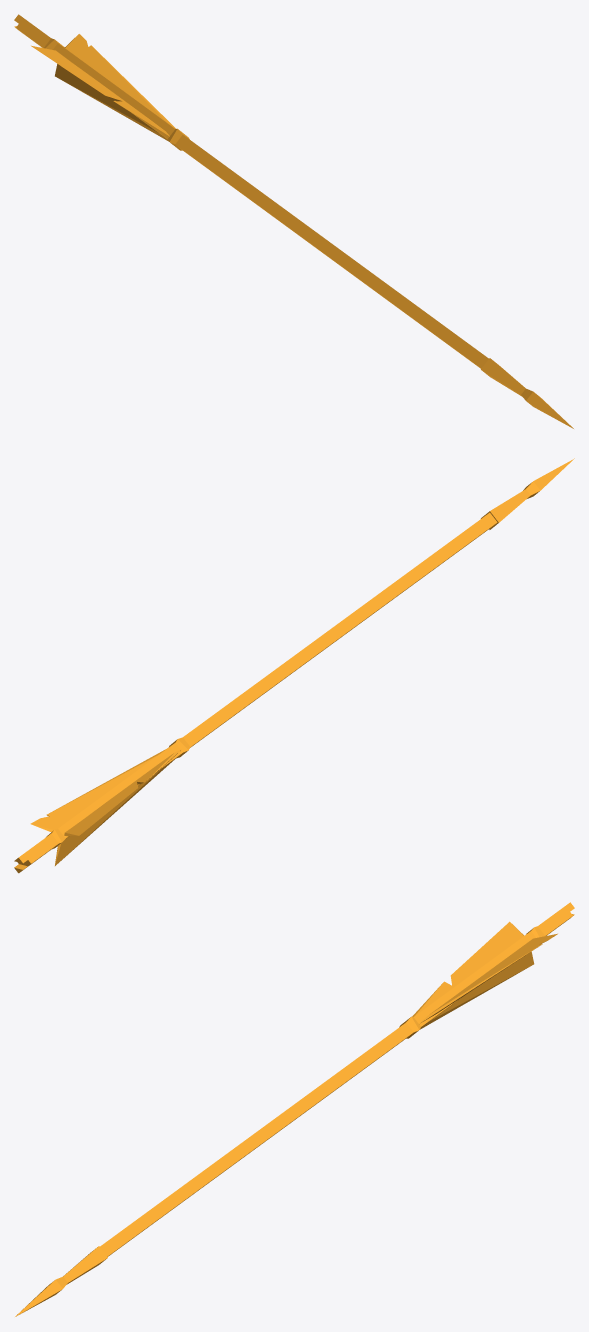
File: SM_Arrow_Color_D_Fantasy.fbx
The picture shows the model from 3 angles, top to bottom: view 1: azimuth 30°, elevation 25°; view 2: azimuth 150°, elevation 25°; view 3: azimuth 330°, elevation 25°; orthographic projection.
Visible parts, largest first — view 1: arrow-color-d-fantasy; view 2: arrow-color-d-fantasy; view 3: arrow-color-d-fantasy.
Part boxes in pixels (x1=…): arrow-color-d-fantasy: x1=14, y1=14, x2=573, y2=428; arrow-color-d-fantasy: x1=14, y1=458, x2=574, y2=873; arrow-color-d-fantasy: x1=15, y1=902, x2=574, y2=1316.
Bounding box in the file's own units: 0.054 × 0.0395 × 1.06.
